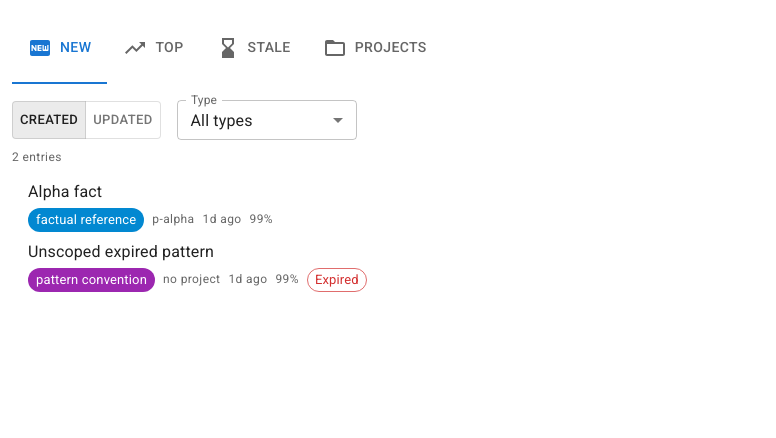
it: BrowsePanel › (i) Projects grid opens a project view with sections and a type filter
Check: the text "Alpha fact" is shown, box [28,182,102,201]
Click the tab "Projects" at {"x": 375, "y": 48}, box [307,12,443,84]
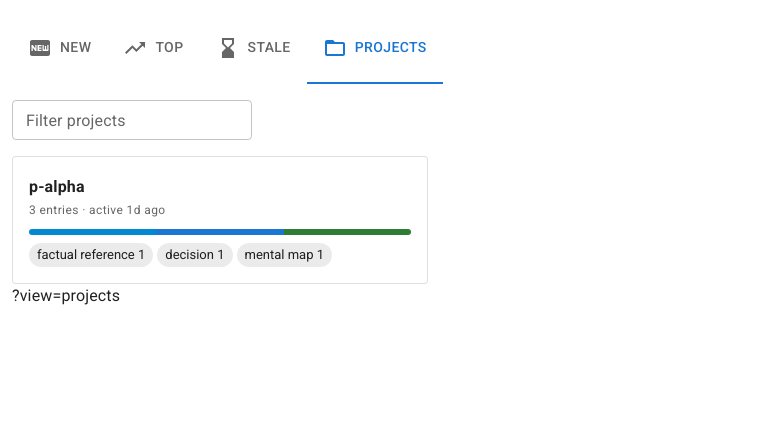
Check: the heading "p-alpha" is shown, box [29,177,85,196]
Check: the text "3 entries · active 1d ago" is shown, box [29,203,166,217]
Check: the label "Type" is gone
Click the button with aria-label "Open project p-alpha" at {"x": 57, "y": 186}, box [13,157,427,283]
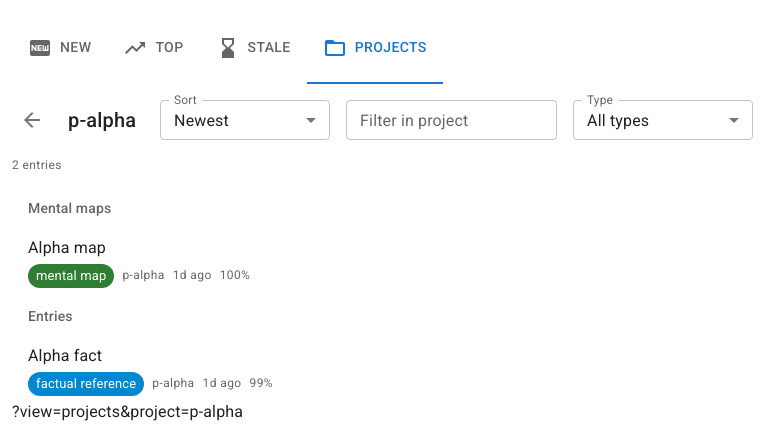
Check: the number of dropdowns labelled "type" is 1
Press the mouse on the dropdown labelled "type" at {"x": 618, "y": 120}, box [587,110,649,130]
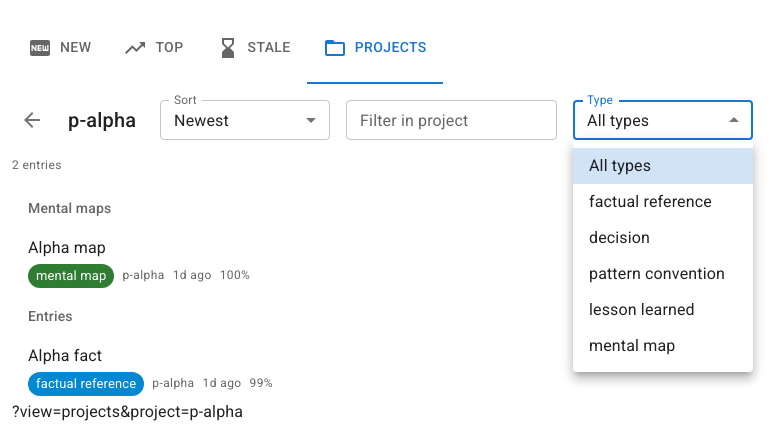
Click the option "decision" at {"x": 620, "y": 238}, box [589,228,650,247]
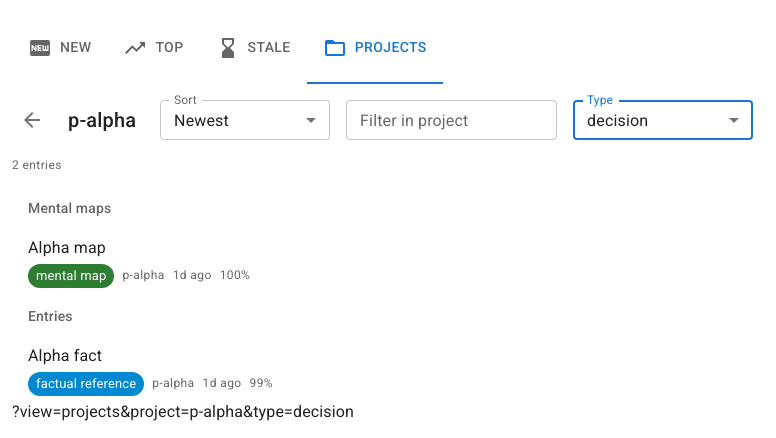
Click the button named "Back to projects" at {"x": 32, "y": 120}, box [12,100,52,140]
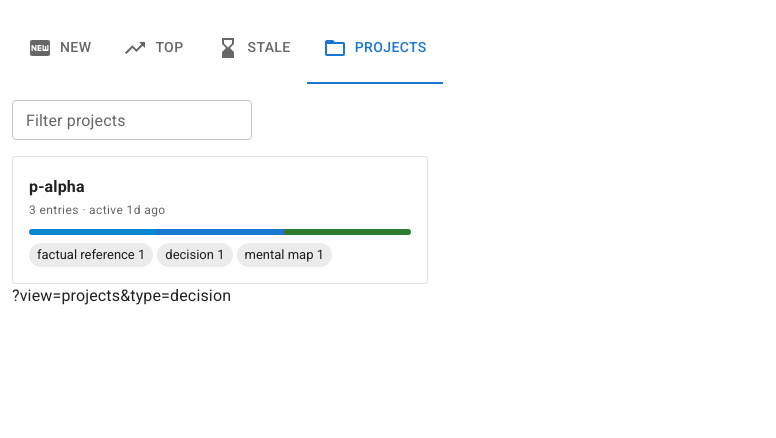
Check: the element with test id "project-card" is shown, box [12,156,428,284]
